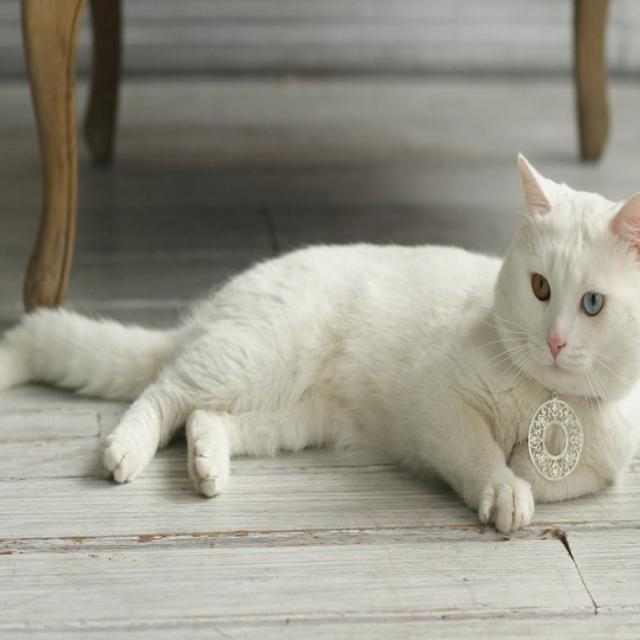Khao Manee: (0, 146, 640, 539)
